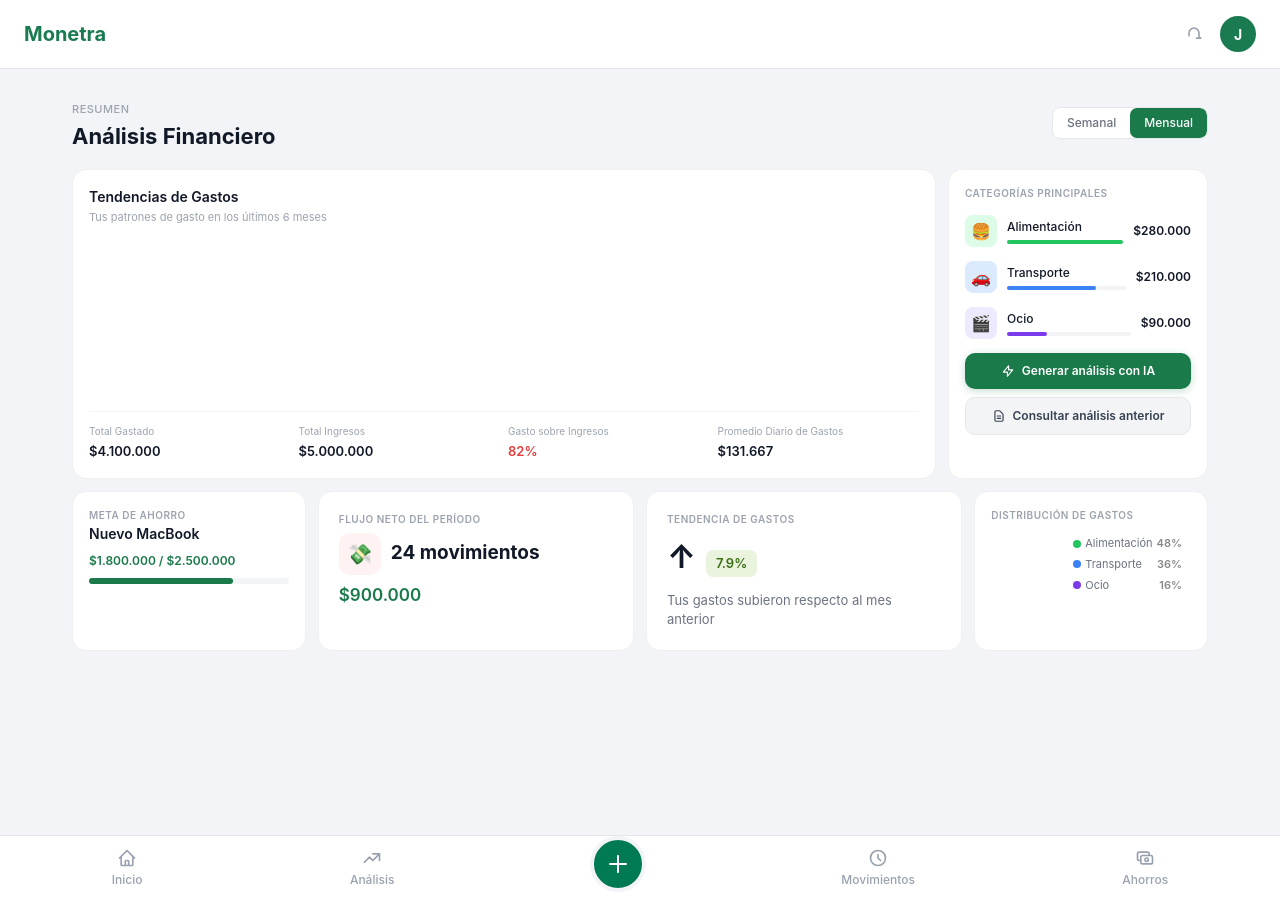
Scenario: Pruebas en <AnalisisView /> › Modal de IA — Generar análisis nuevo › debe mostrar un mensaje de error si la generación del análisis falla
Click the button "Generar análisis con IA" at (1078, 370), box [965, 352, 1191, 388]
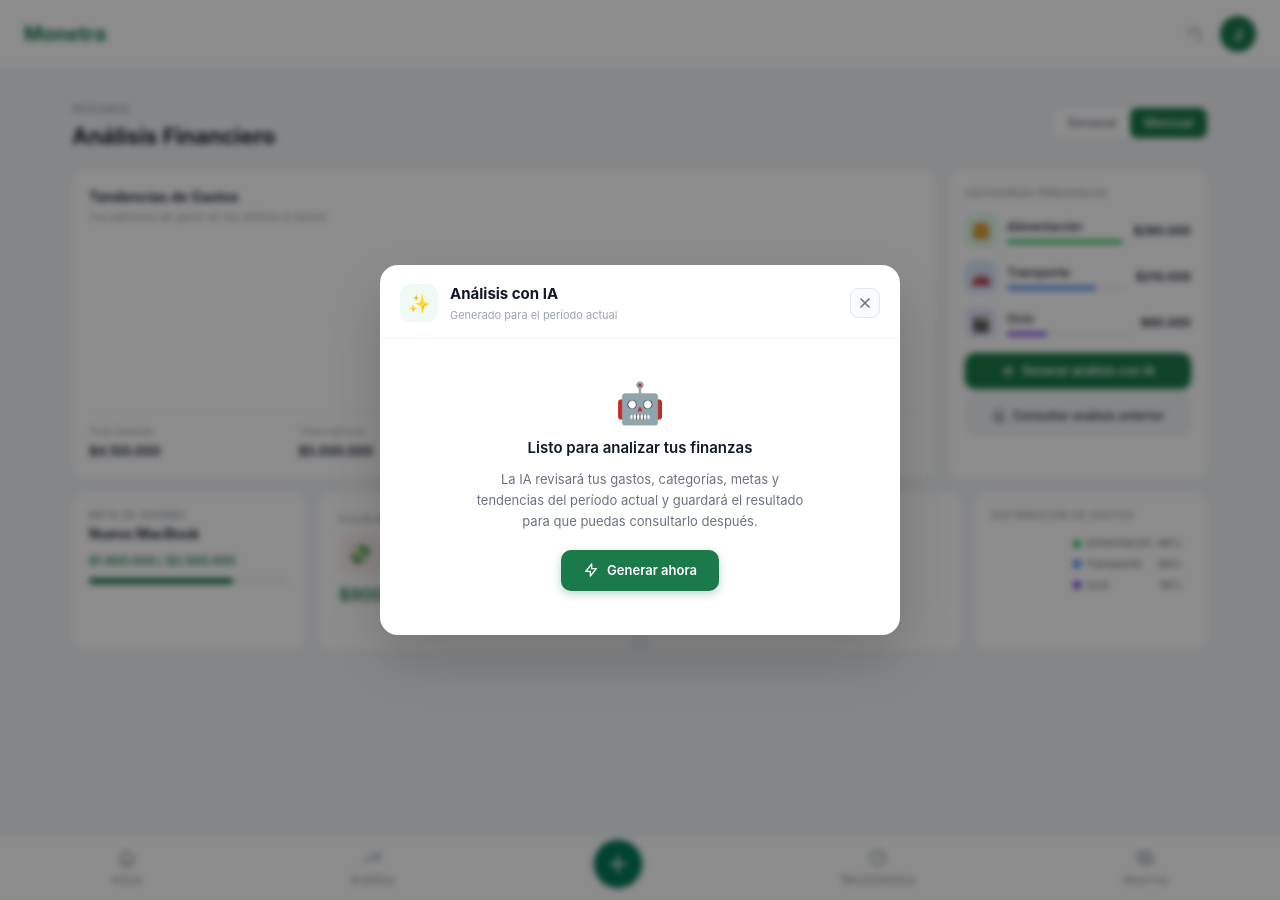
Click the button "Generar ahora" at (640, 570), box [561, 550, 719, 591]
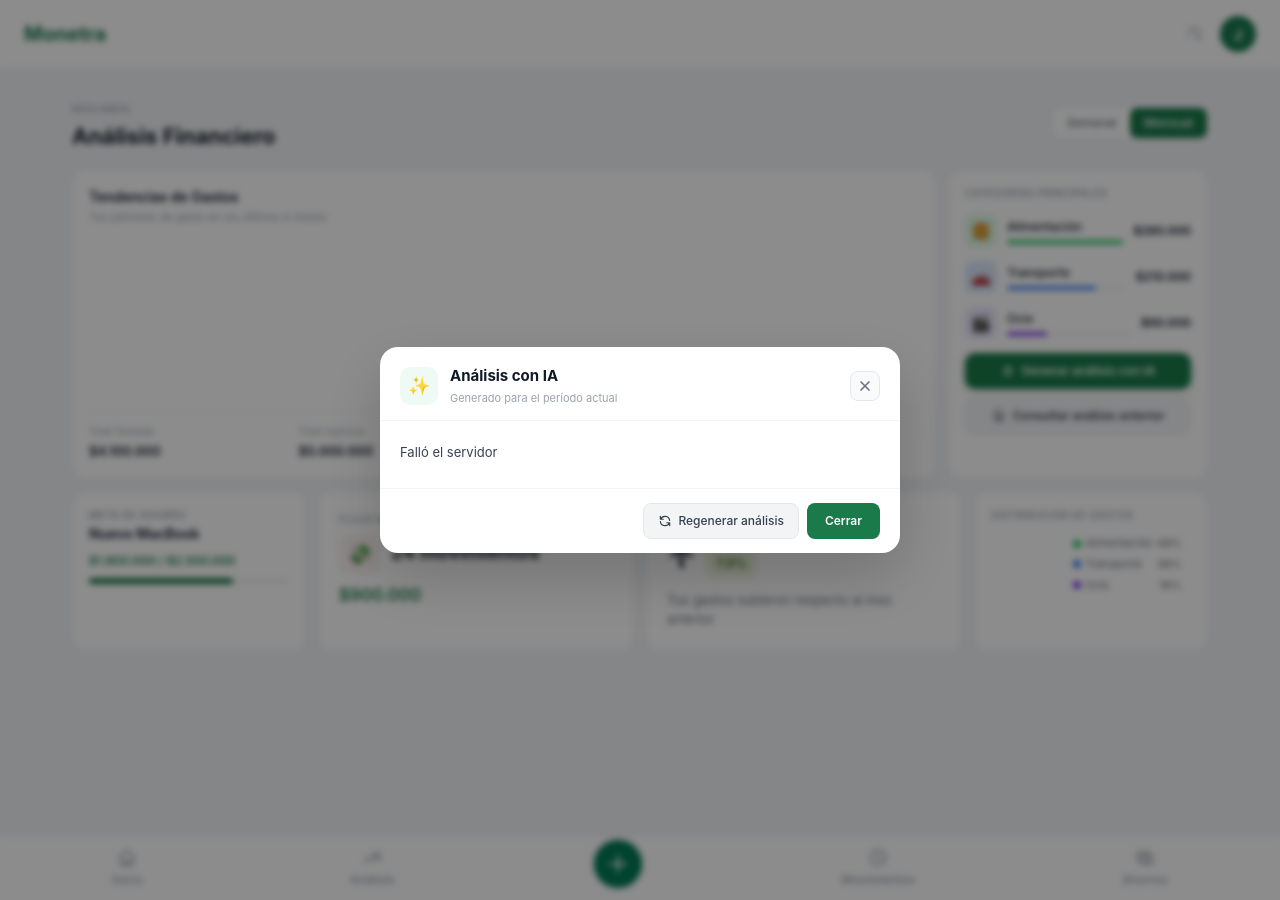
Result: the text "Falló el servidor" is shown at [400, 444, 497, 460]
